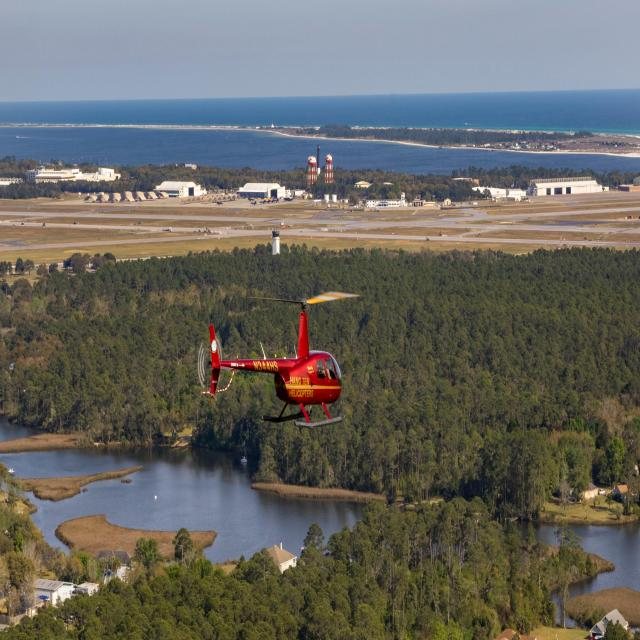helicopter: (191, 273, 371, 442)
